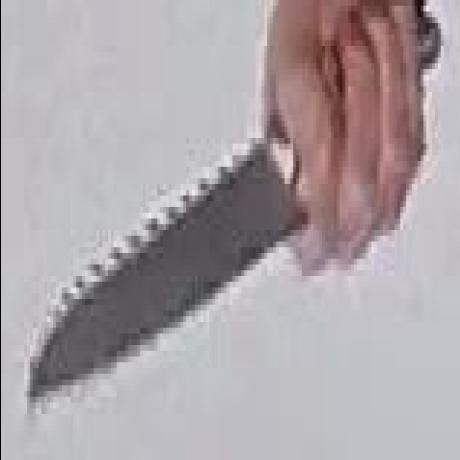1: (258, 0, 430, 270)
weapon: (25, 127, 298, 417)
